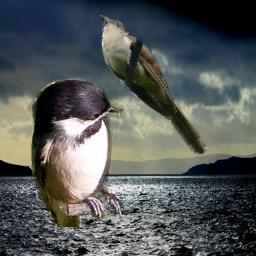Cuckoo: (100, 15, 207, 155)
Swallow: (28, 75, 130, 227)
